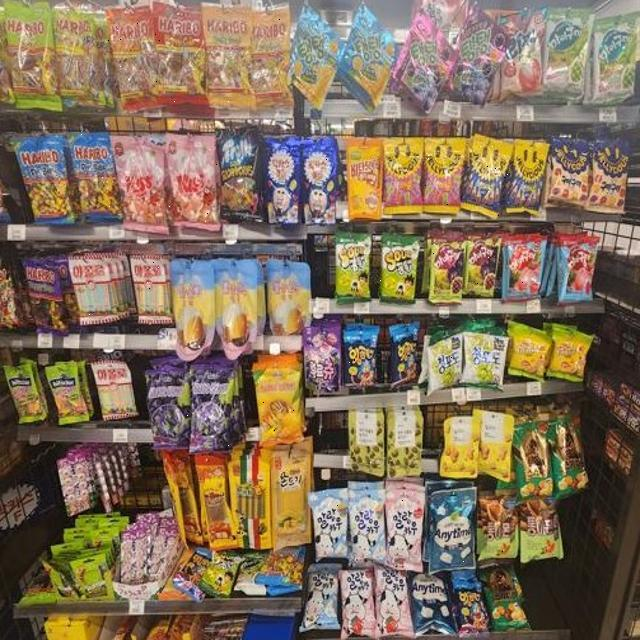product: (103, 13, 158, 112), (115, 135, 168, 232), (157, 7, 204, 114), (168, 132, 220, 227), (210, 11, 254, 115), (16, 141, 73, 220), (258, 359, 307, 442), (191, 366, 234, 455), (75, 134, 119, 220), (258, 12, 293, 118), (145, 368, 191, 445), (382, 140, 427, 217), (73, 258, 119, 326), (344, 140, 382, 219), (428, 495, 471, 564), (428, 138, 466, 216), (507, 145, 546, 221), (387, 488, 426, 564), (261, 143, 297, 224), (476, 491, 517, 562), (304, 136, 336, 226), (547, 136, 591, 200), (128, 255, 167, 325), (518, 500, 560, 563), (590, 144, 627, 215), (462, 333, 507, 391), (430, 237, 465, 309), (351, 489, 386, 561), (474, 143, 507, 218), (91, 362, 133, 419), (333, 238, 374, 296), (380, 242, 418, 304), (350, 412, 388, 473), (305, 490, 340, 556), (340, 330, 378, 390), (559, 243, 597, 303), (504, 243, 542, 297), (387, 326, 419, 383), (465, 243, 501, 293), (426, 342, 462, 392)
